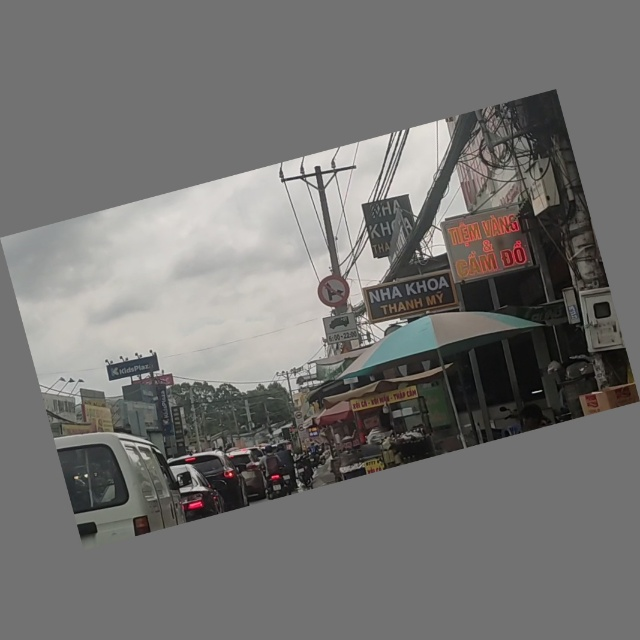P.139: (313, 272, 353, 311)
S.505a*Xe tai: (322, 311, 360, 347)
